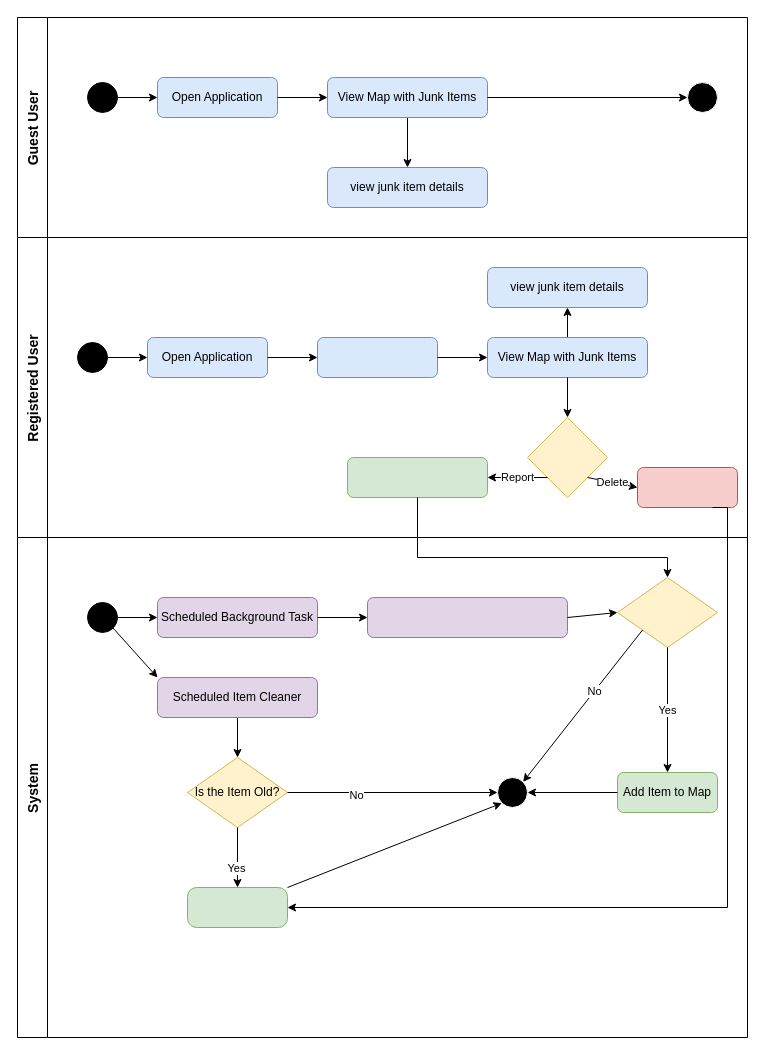
Image size: 765x1055. Some labels were removed from this diagram. Here are the shapes that lost their labels. From the top down, the centre of each, then its label:
pixel 377 357: Login
pixel 417 477: Report New Junk Item
pixel 567 457: Action?
pixel 687 487: Delete Item
pixel 467 617: Scrape Facebook Posts for Junk Items
pixel 667 612: Junk Item Detected?
pixel 237 907: Delete Item from Map
